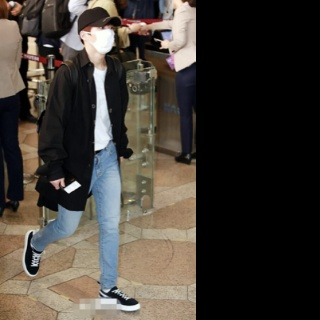with_mask: (92, 25, 116, 56)
